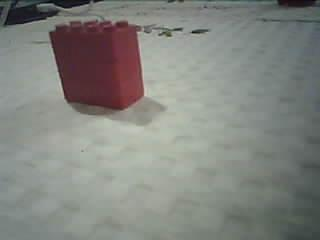lego: (48, 18, 145, 111)
